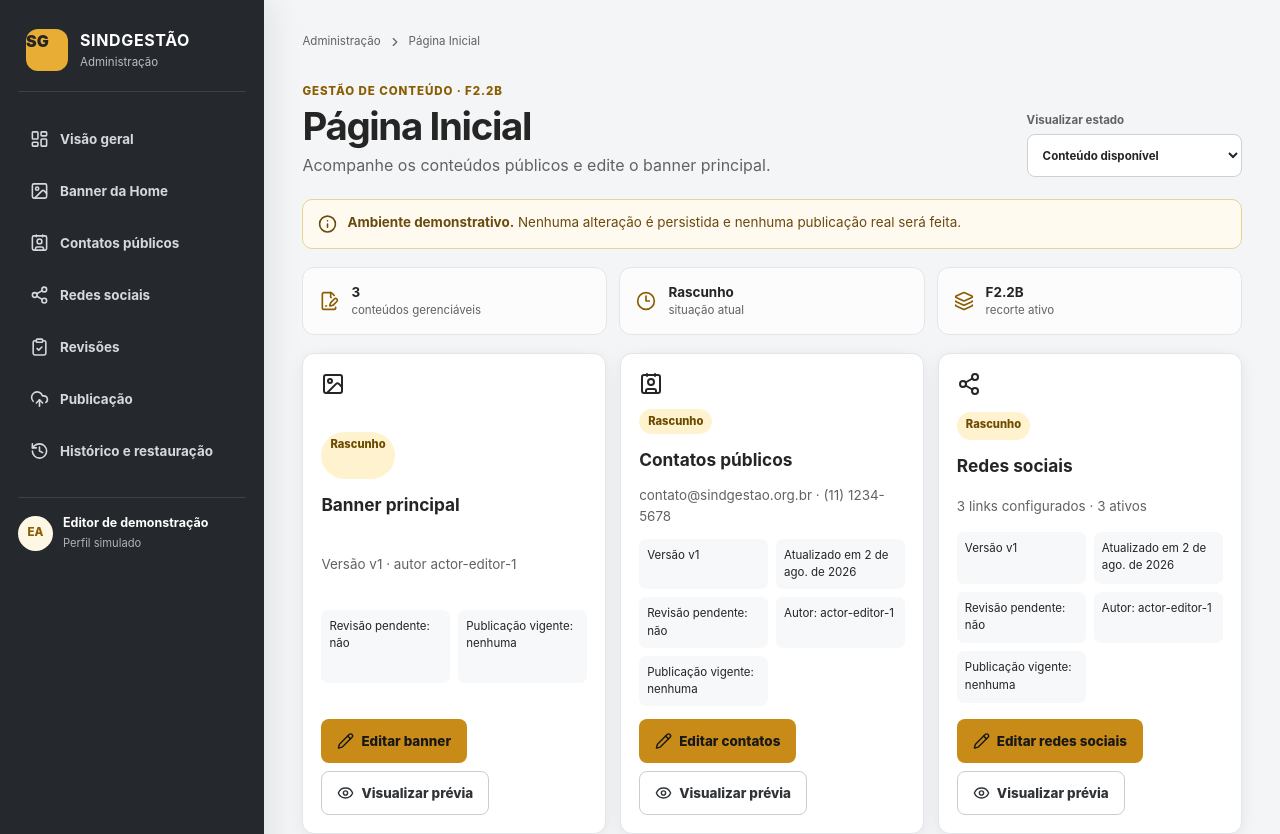
HomeManagementPage › opens the editor from the dashboard action Editar redes sociais
Click the link "Editar redes sociais": [1050, 741] box left=957, top=719, right=1143, bottom=763
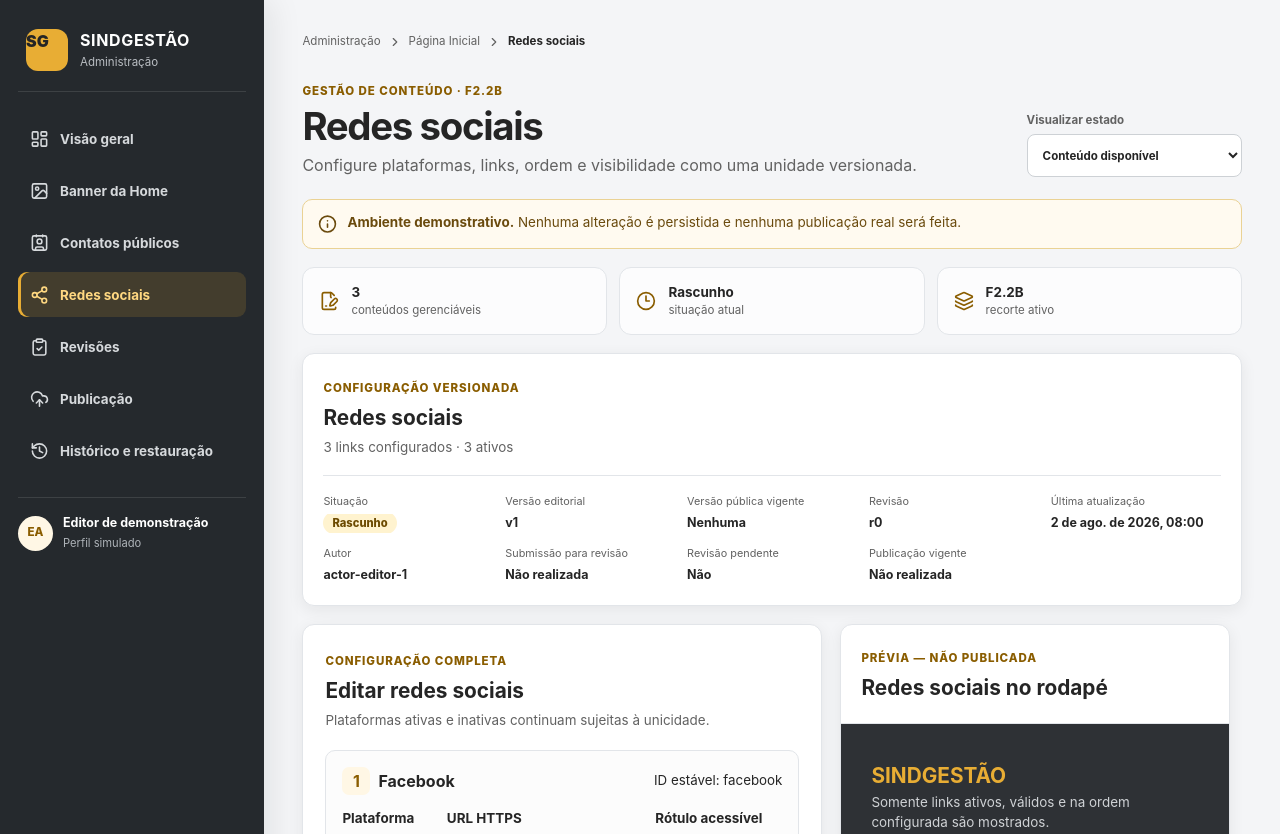
Expected: the heading "Redes sociais" below "Gestão de conteúdo · F2.2B" is shown, left=302, top=103, right=542, bottom=149
